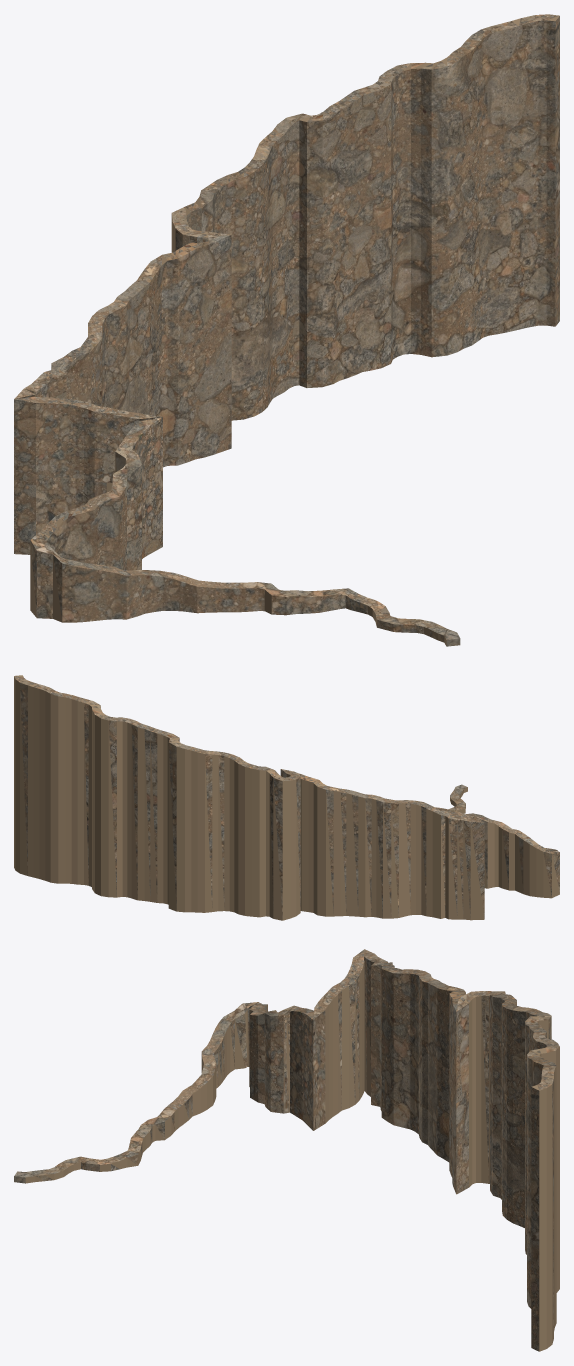
The model's file is mav.glb.
The picture shows the model from 3 angles, top to bottom: view 1: azimuth 30°, elevation 25°; view 2: azimuth 150°, elevation 25°; view 3: azimuth 270°, elevation 25°; orthographic projection. The views are drawn at different scales.
Parts seen in each view (by area): view 1: profile (6); view 2: profile (6); view 3: profile (6).
Boxes of the visible parts, box(x1,y1,x2,y2) form: profile (6): box(14, 14, 559, 646); profile (6): box(14, 675, 559, 920); profile (6): box(14, 949, 559, 1351).
Bounding box in the file's own units: 113 × 47.13 × 89.31.
Materials: 1 (1 with a texture image).
